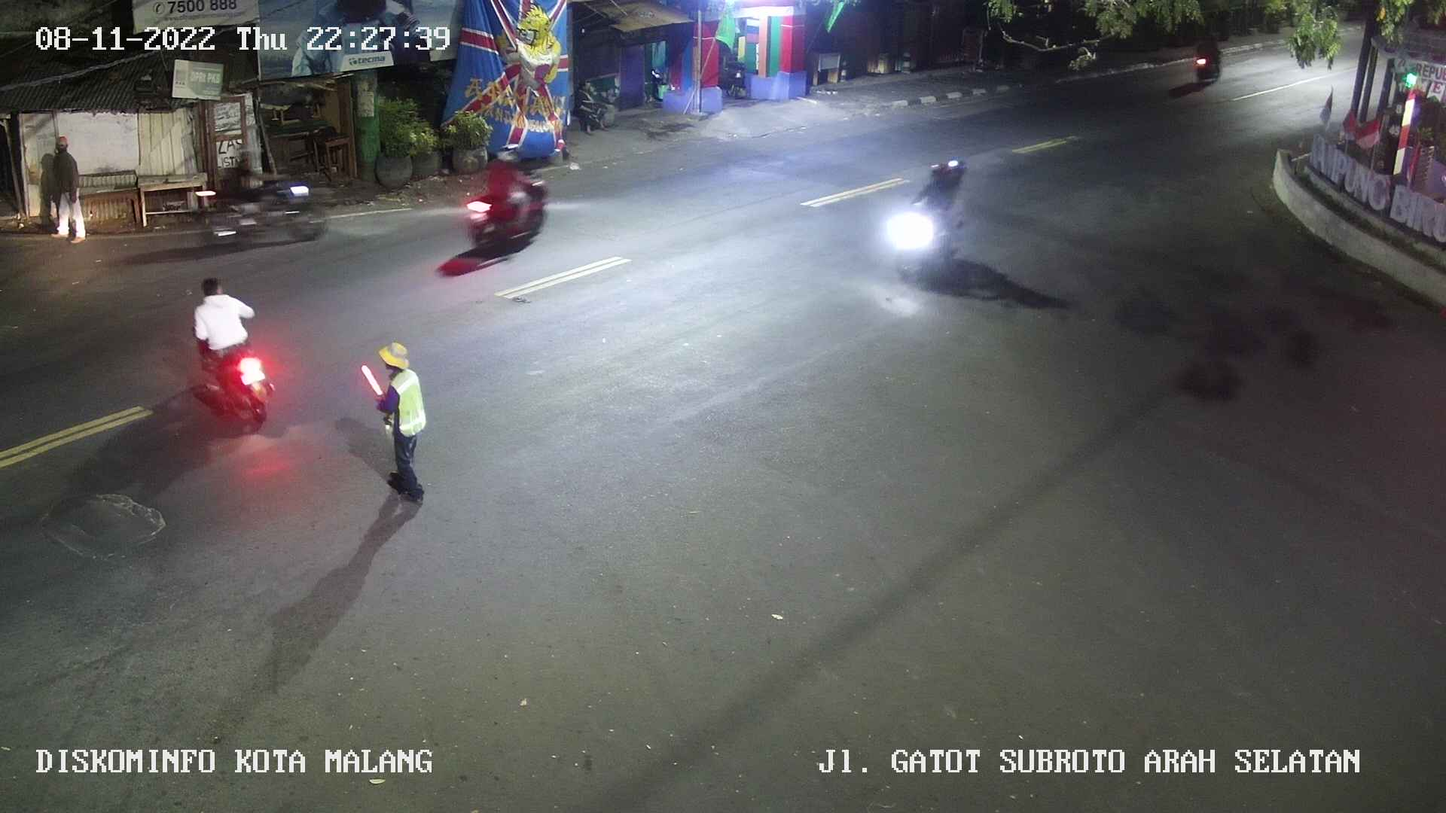with_helmet: (885, 140, 977, 297), (458, 128, 560, 255)
without_helmet: (170, 260, 290, 434)
